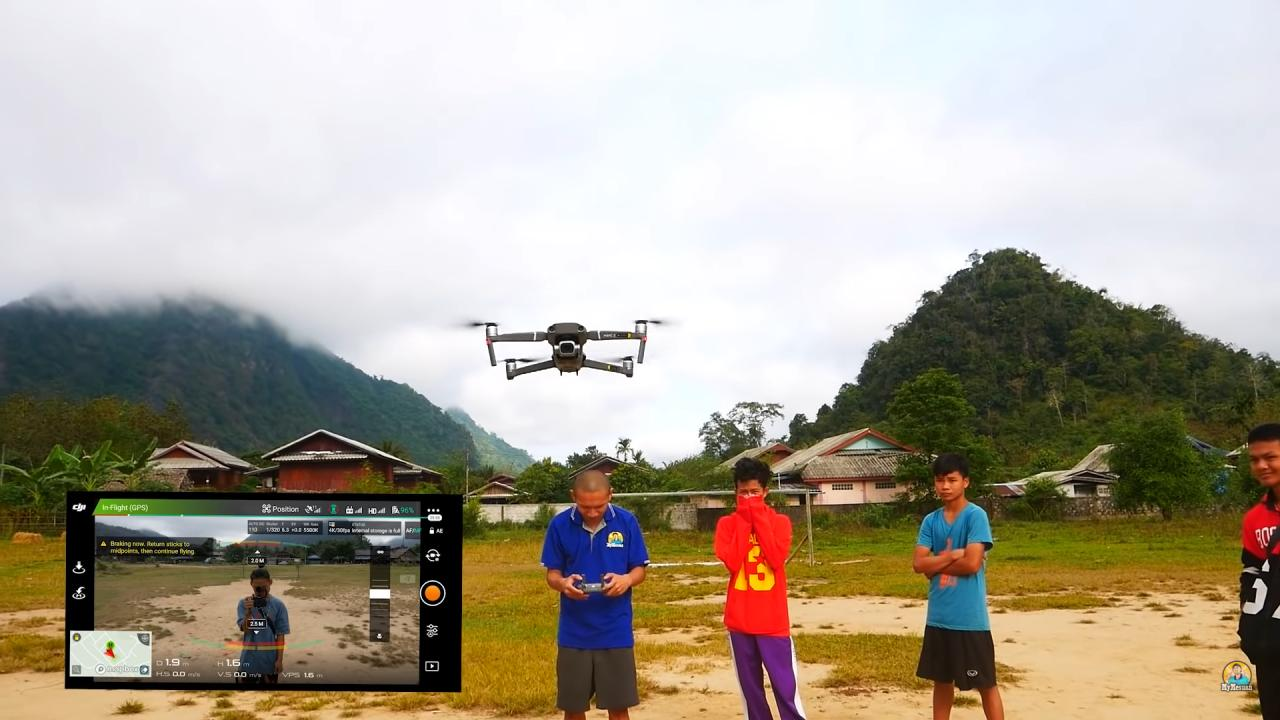Drone: (454, 310, 684, 393)
